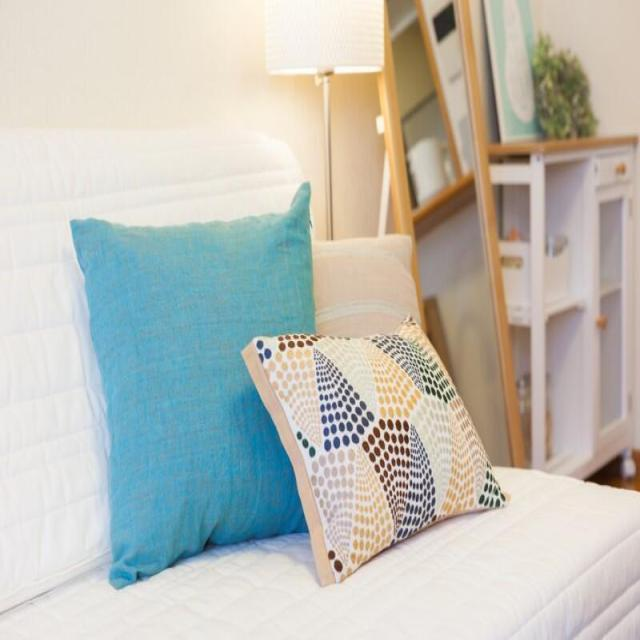white sofa: (5, 97, 640, 635)
